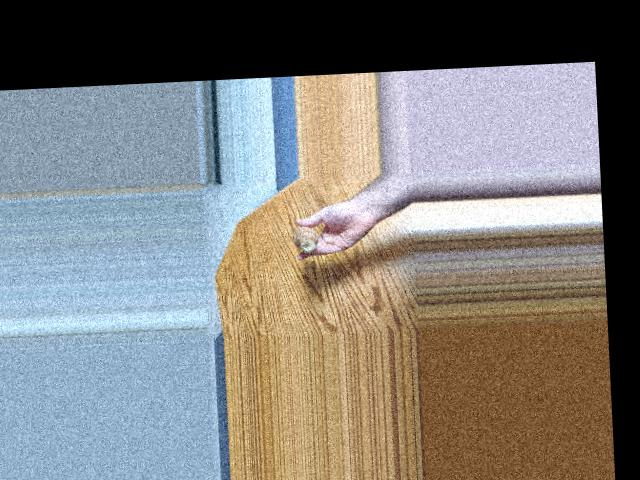sweet_potato: (290, 225, 318, 251)
